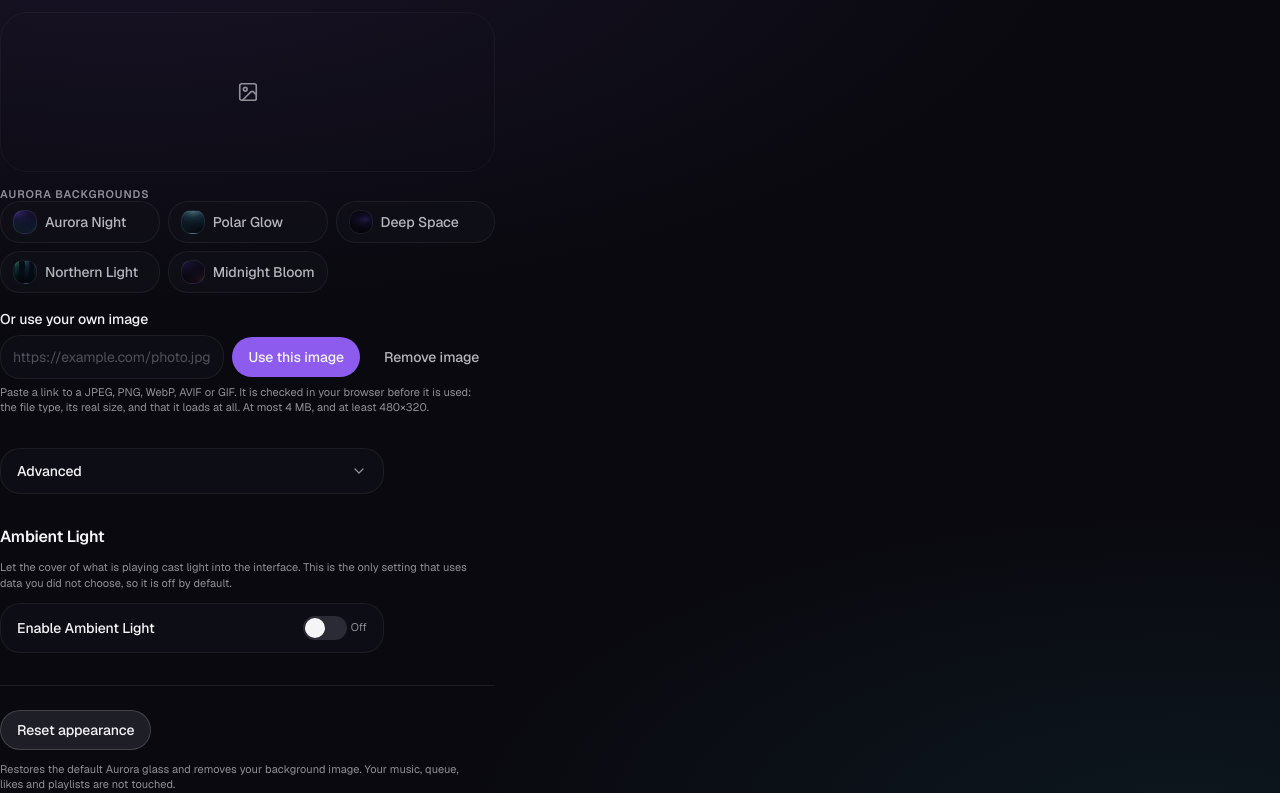
Scenario: Appearance panel: Ambient Light is a first-class, progressive setting › is a real switch: role, exposed state, a word for the state, and a 44px floor
(page scrolled)
Expected: the text "Enable Ambient Light" is shown, [17,618,155,638]
Click the switch with test id "artwork-ambient".
click(86, 628)  # box [0,603,384,653]
(page scrolled)
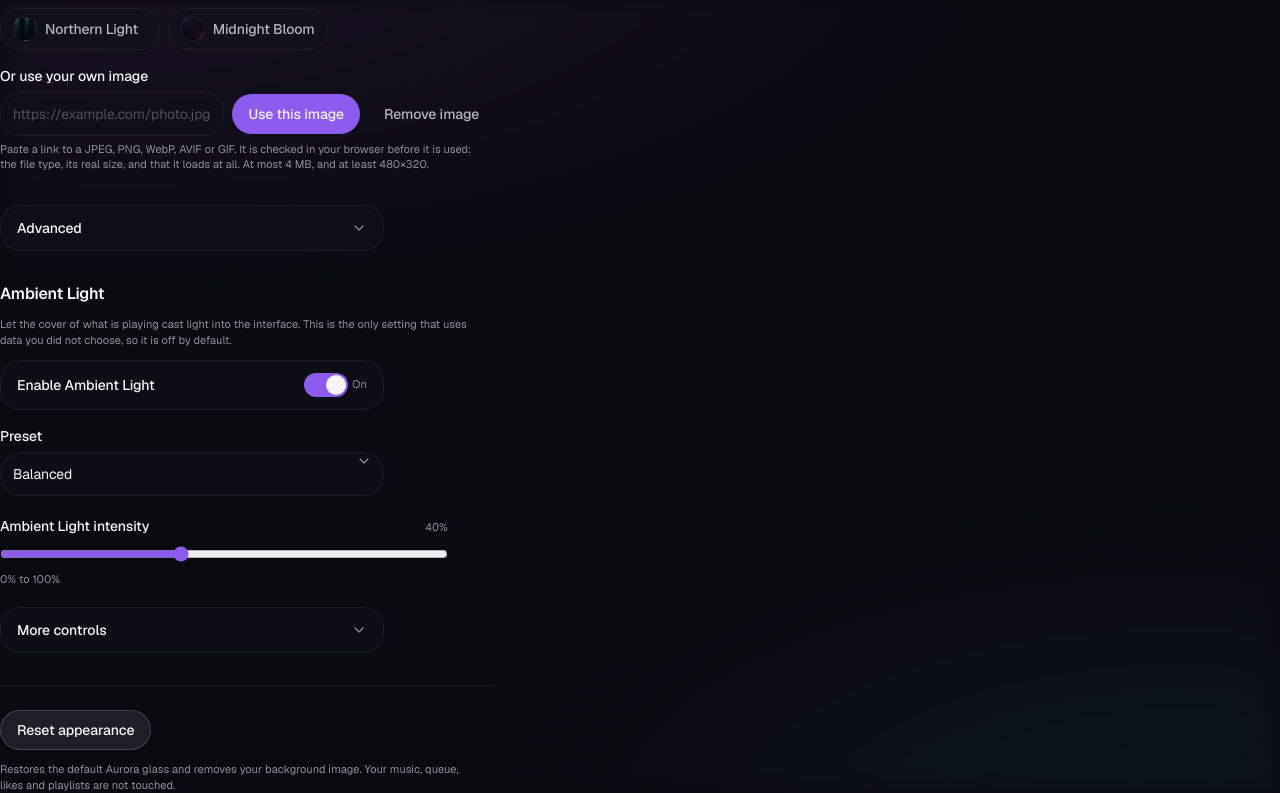
Expected: the switch with test id "artwork-ambient" shows "On", [0,360,384,410]
Expected: the element with test id "artwork-ambient" no longer shows "Off"
Expected: the element with test id "appearance-ambient-depth" is shown, [0,426,495,653]
